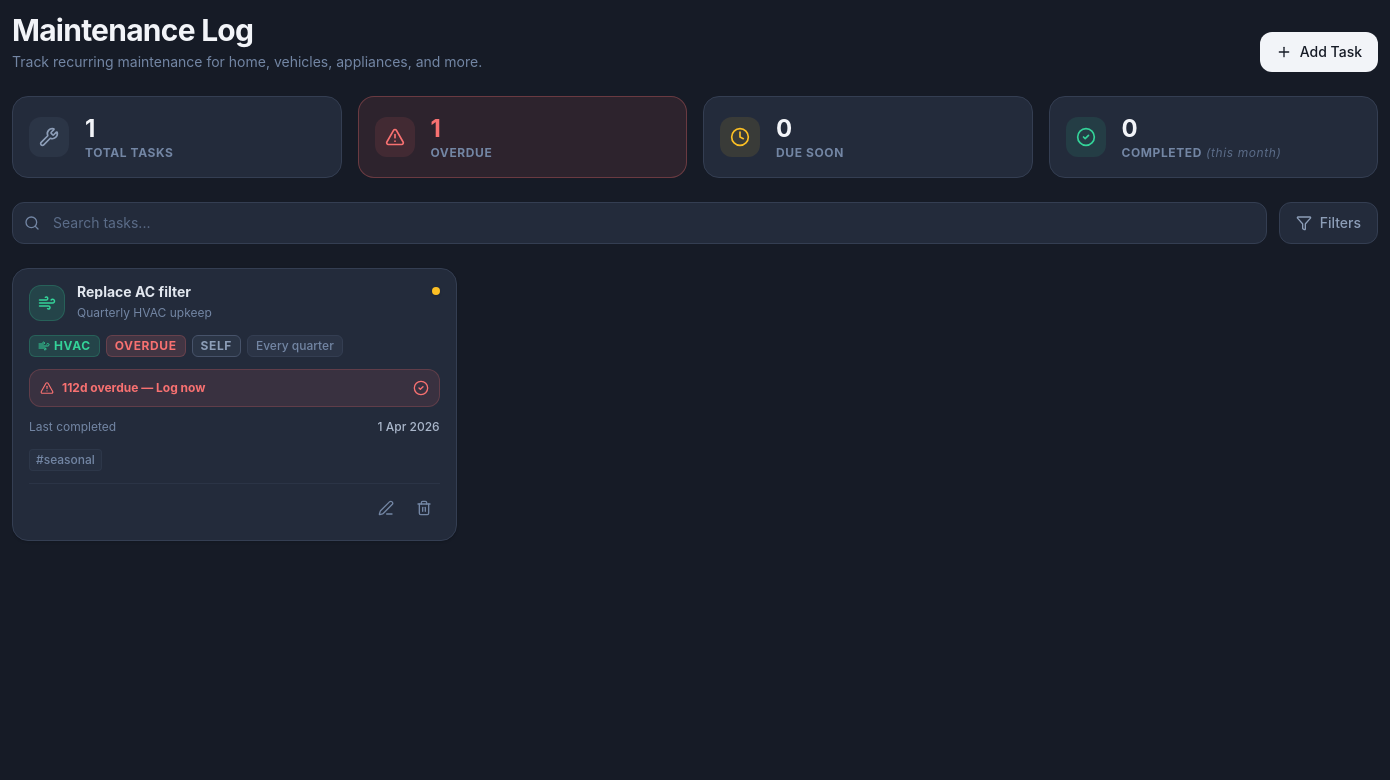
MaintenanceAdminView › clears filters from an empty filtered result
This screenshot has width=1390, height=780.
Expected: the heading "Replace AC filter" is shown, [77,283,191,300]
Type "water heater" into the field with placeholder "Search tasks...".
click(639, 223); type("water heater")  # box [12,202,1267,244]
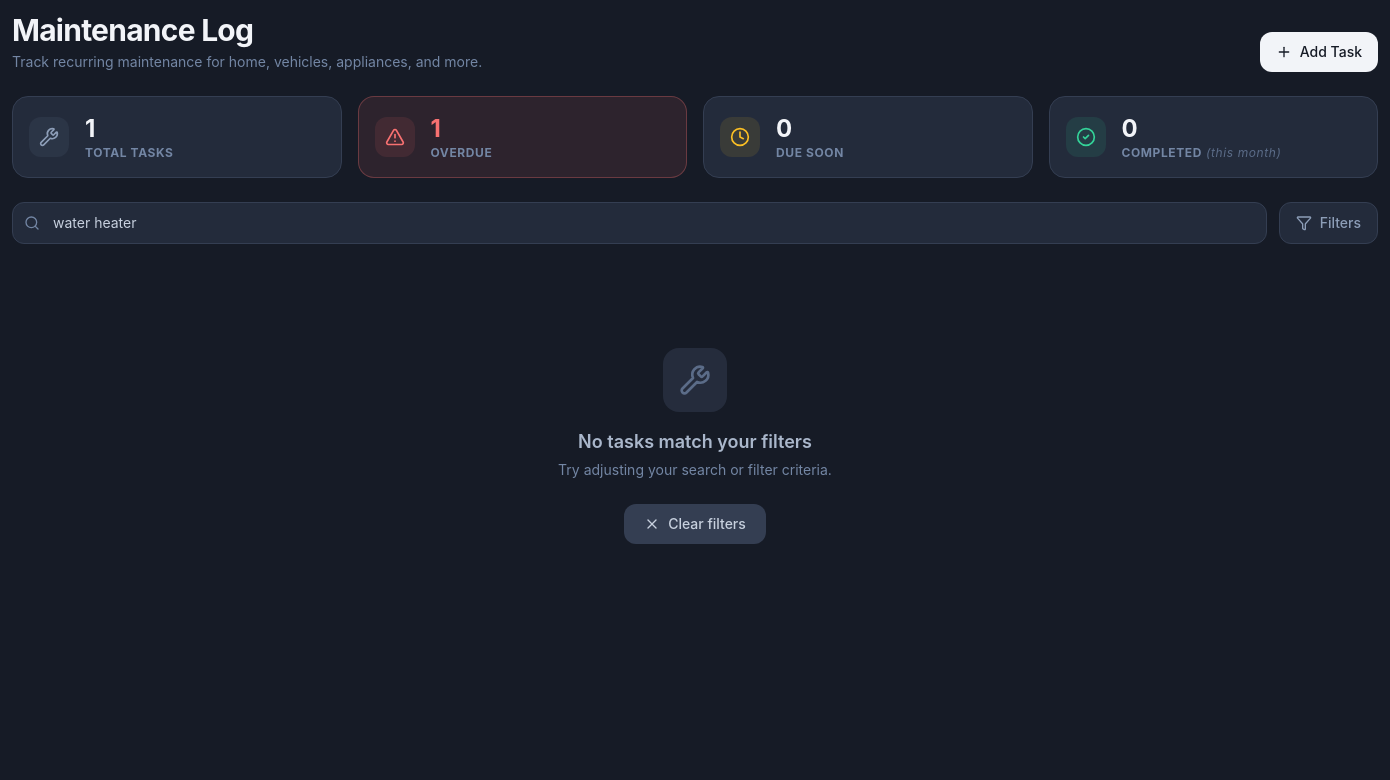
Expected: the heading "No tasks match your filters" is shown, [578,428,812,456]
Click the button "Clear filters".
click(695, 524)  # box [624,504,766,544]
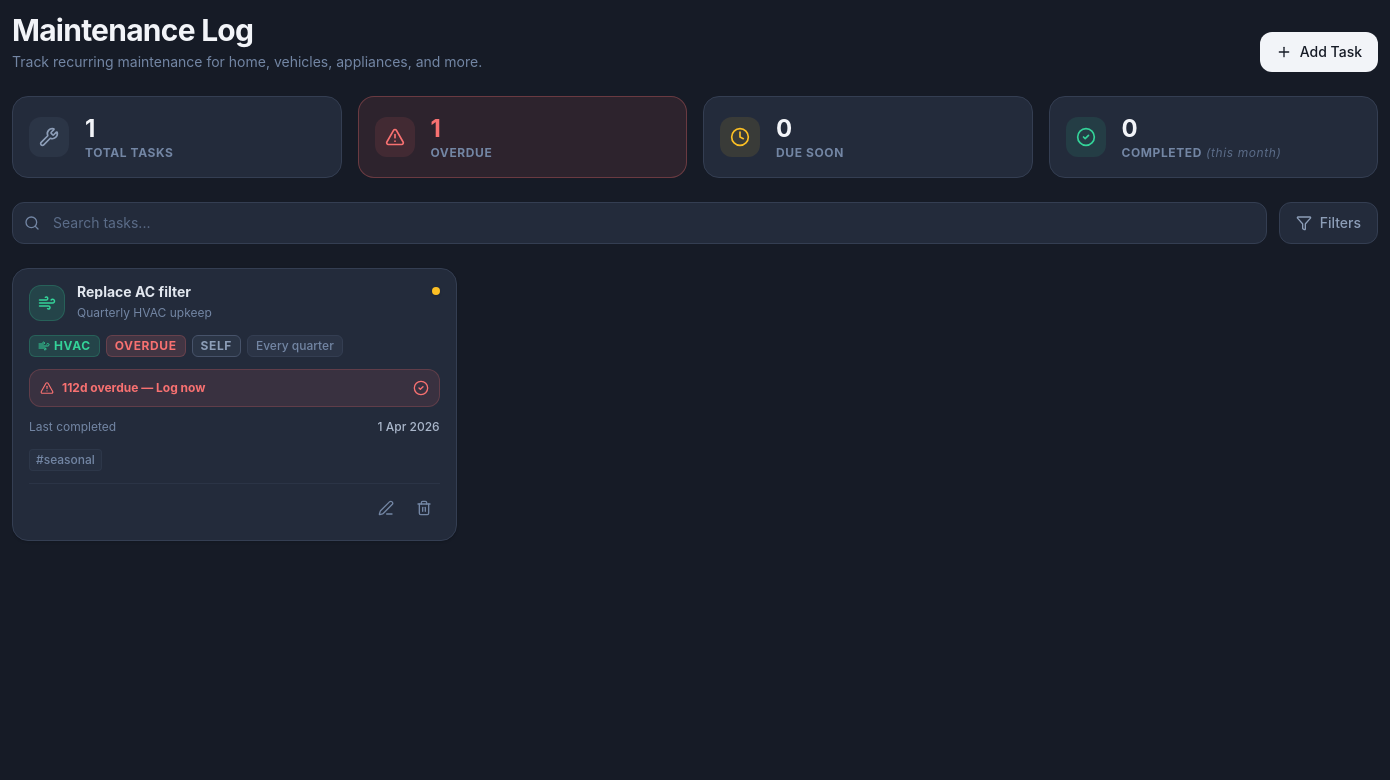
Expected: the heading "Replace AC filter" is shown, [77,283,191,300]
Expected: the field with placeholder "Search tasks..." is empty, [12,202,1267,244]
